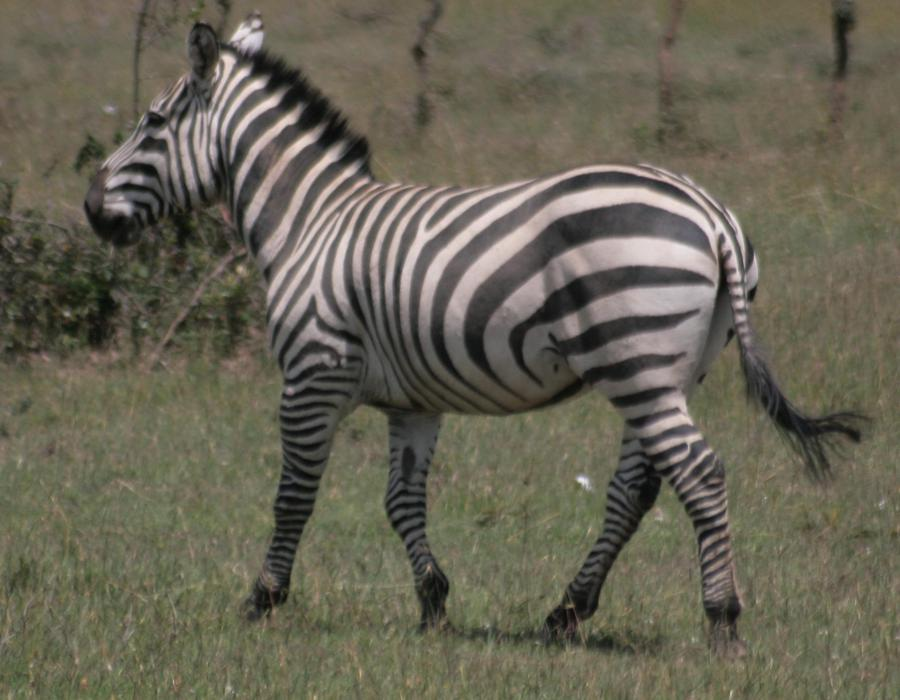zebra_plains: (236, 149, 728, 434)
